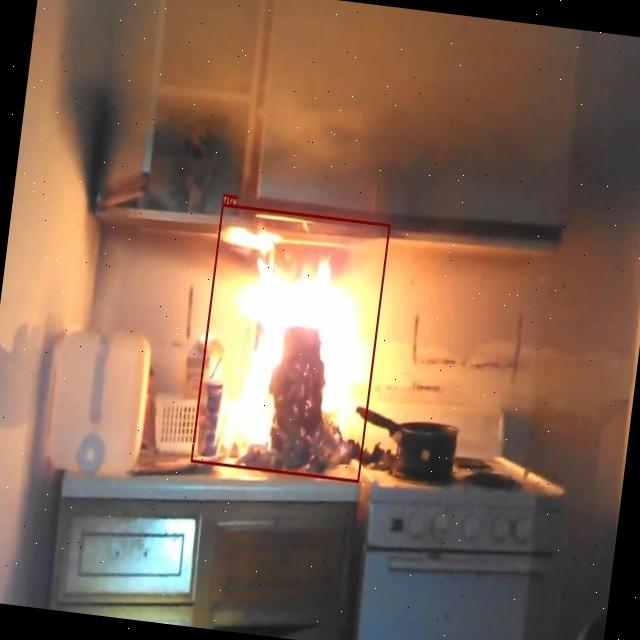fire: (190, 203, 389, 482)
